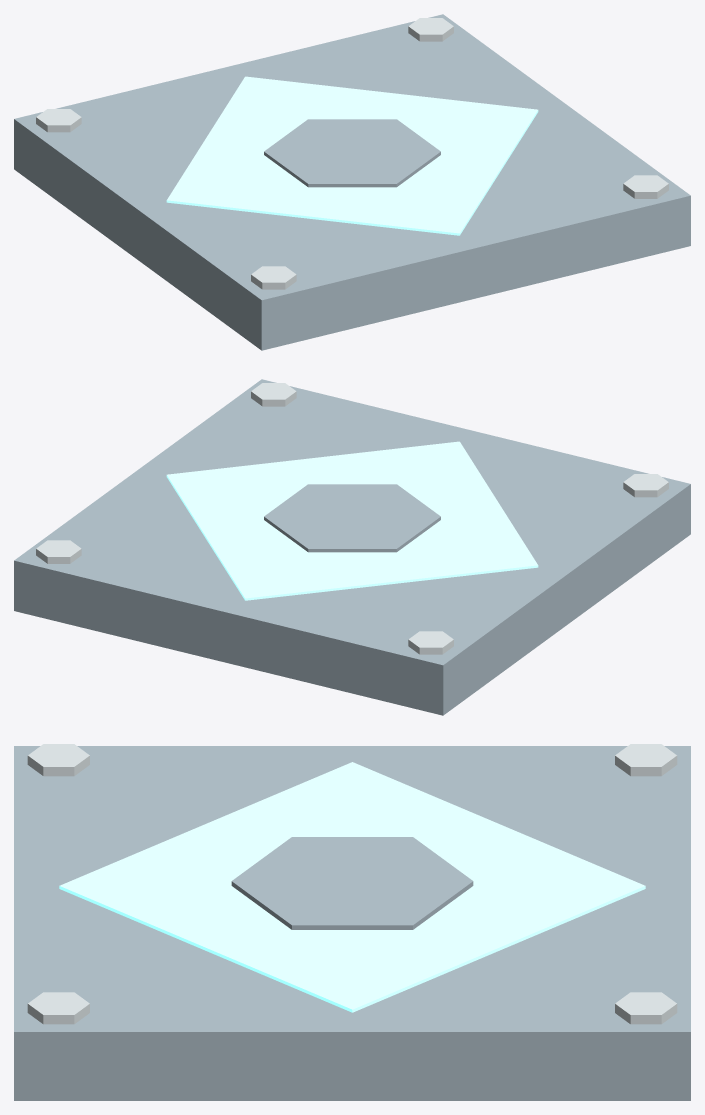
Rendered from floor-tile-ice.glb.
The picture shows the model from 3 angles, top to bottom: view 1: azimuth 30°, elevation 25°; view 2: azimuth 150°, elevation 25°; view 3: azimuth 270°, elevation 25°; orthographic projection. The views are drawn at different scales.
Visible parts, largest first — view 1: Ice_Floor_Slab, Cube, Cylinder, Cylinder.003, Cylinder.004, Cylinder.001, Cylinder.002; view 2: Ice_Floor_Slab, Cube, Cylinder, Cylinder.003, Cylinder.004, Cylinder.002, Cylinder.001; view 3: Ice_Floor_Slab, Cube, Cylinder, Cylinder.001, Cylinder.002, Cylinder.003, Cylinder.004.
Boxes of the visible parts, box(x1,y1,x2,y2) form: Ice_Floor_Slab: box(14, 14, 690, 350); Cube: box(166, 76, 538, 235); Cylinder: box(264, 119, 440, 187); Cylinder.003: box(623, 175, 668, 198); Cylinder.004: box(408, 18, 453, 41); Cylinder.001: box(251, 266, 296, 289); Cylinder.002: box(36, 109, 81, 132); Ice_Floor_Slab: box(14, 379, 690, 715); Cube: box(166, 441, 538, 600); Cylinder: box(264, 484, 440, 552); Cylinder.003: box(251, 383, 296, 406); Cylinder.004: box(36, 540, 81, 563); Cylinder.002: box(408, 631, 453, 654); Cylinder.001: box(623, 474, 668, 497); Ice_Floor_Slab: box(14, 746, 690, 1100); Cube: box(59, 762, 645, 1012); Cylinder: box(231, 837, 473, 929); Cylinder.001: box(27, 744, 89, 776); Cylinder.002: box(615, 744, 677, 776); Cylinder.003: box(27, 992, 89, 1024); Cylinder.004: box(615, 992, 677, 1024).
Bounding box in the file's own units: 1.96 × 0.25 × 1.96.
